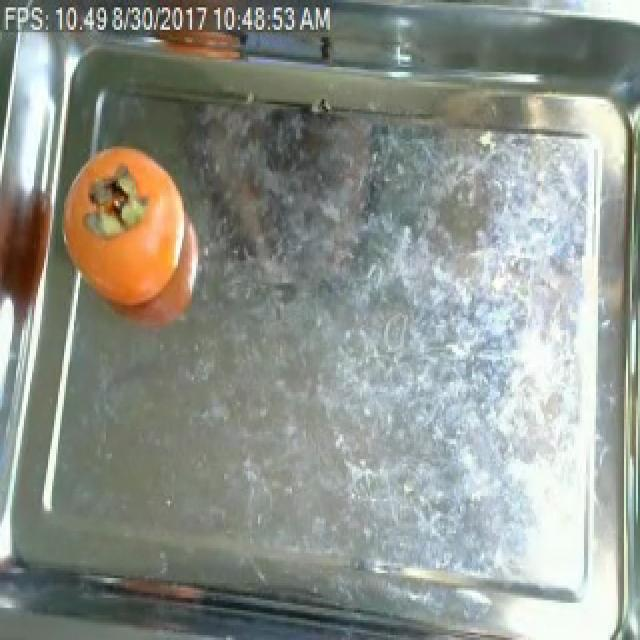Fruit: (52, 129, 212, 350)
